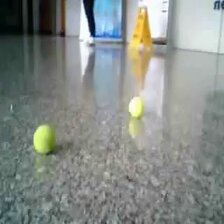tennis: (33, 125, 57, 155), (128, 96, 145, 118)
